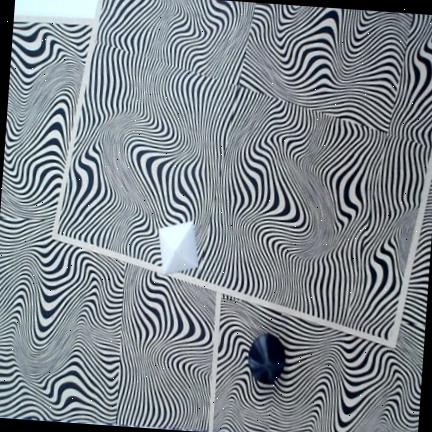Esfera: (248, 334, 285, 383)
Piramide: (158, 221, 198, 274)
